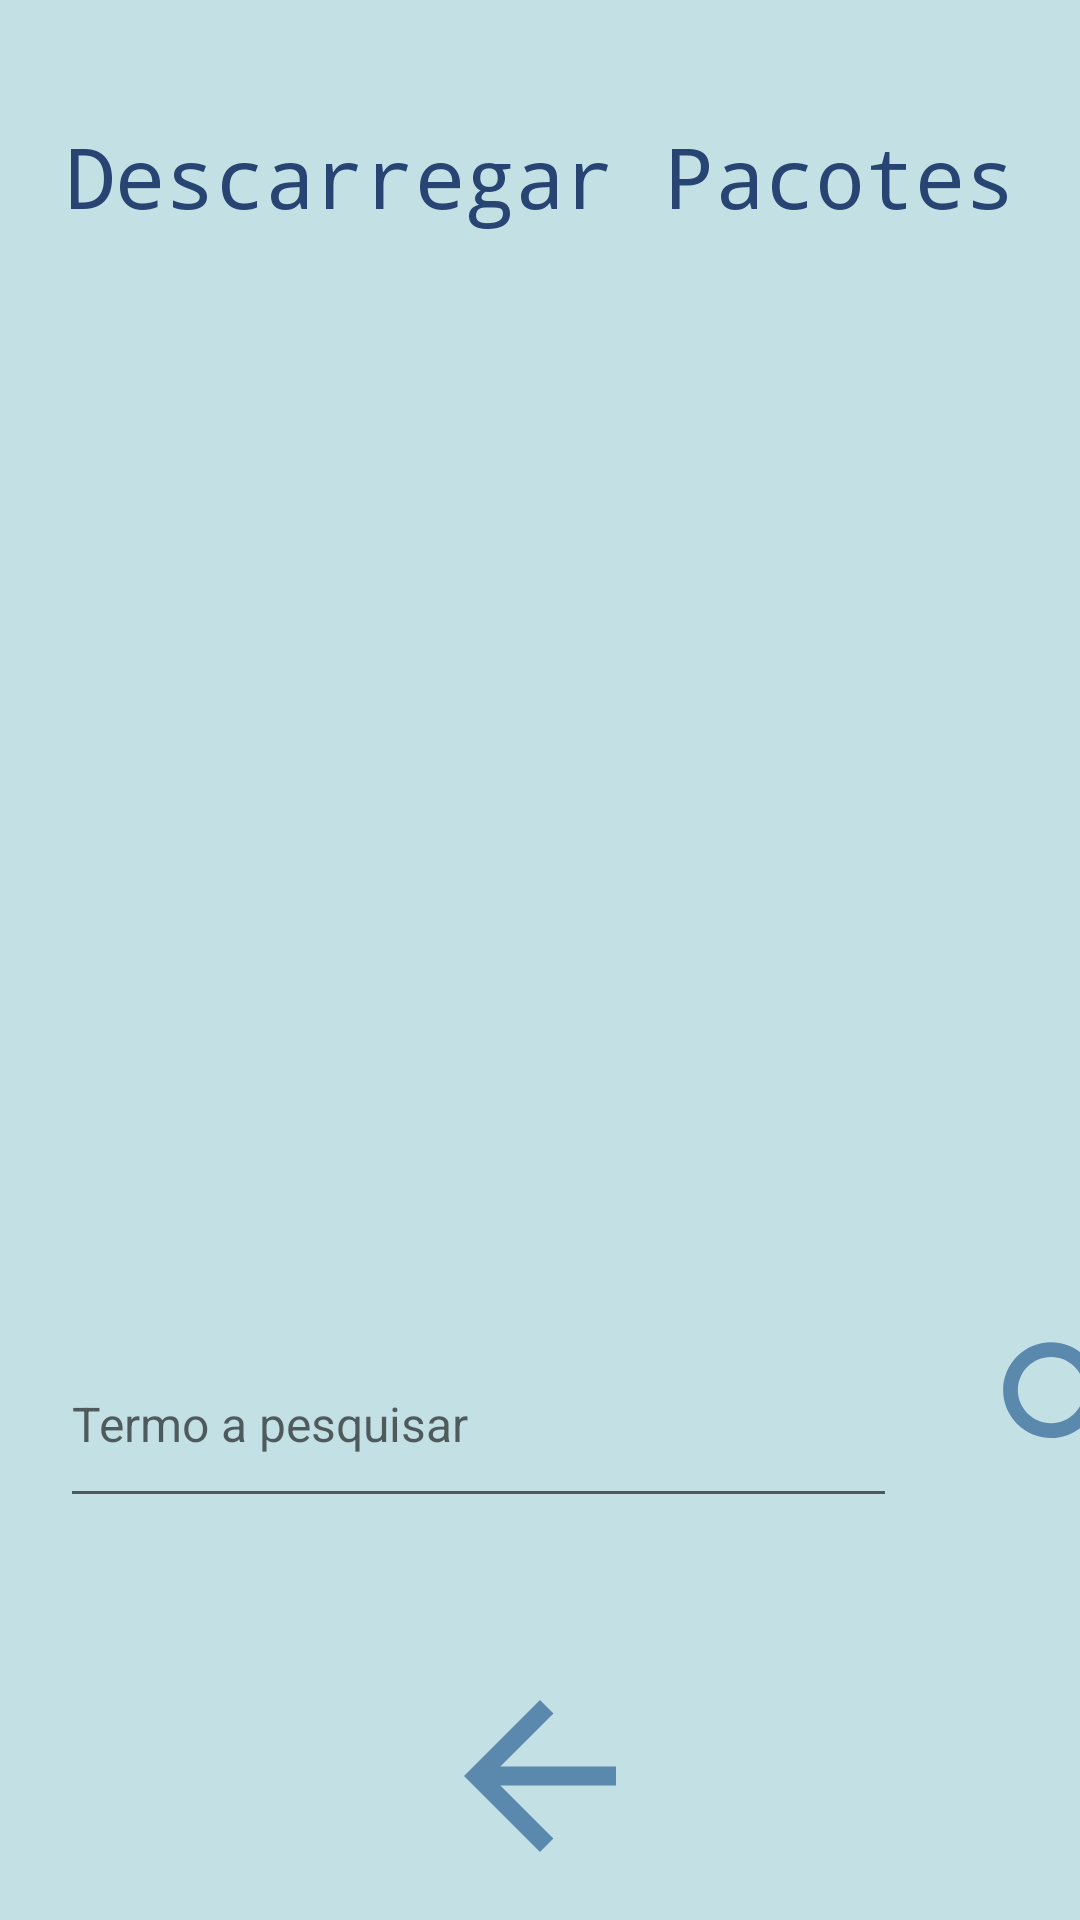

Screen size 1080 × 1920. Icon name, then its center in pixels as point (x, y):
arrow back: point (540, 1776)
